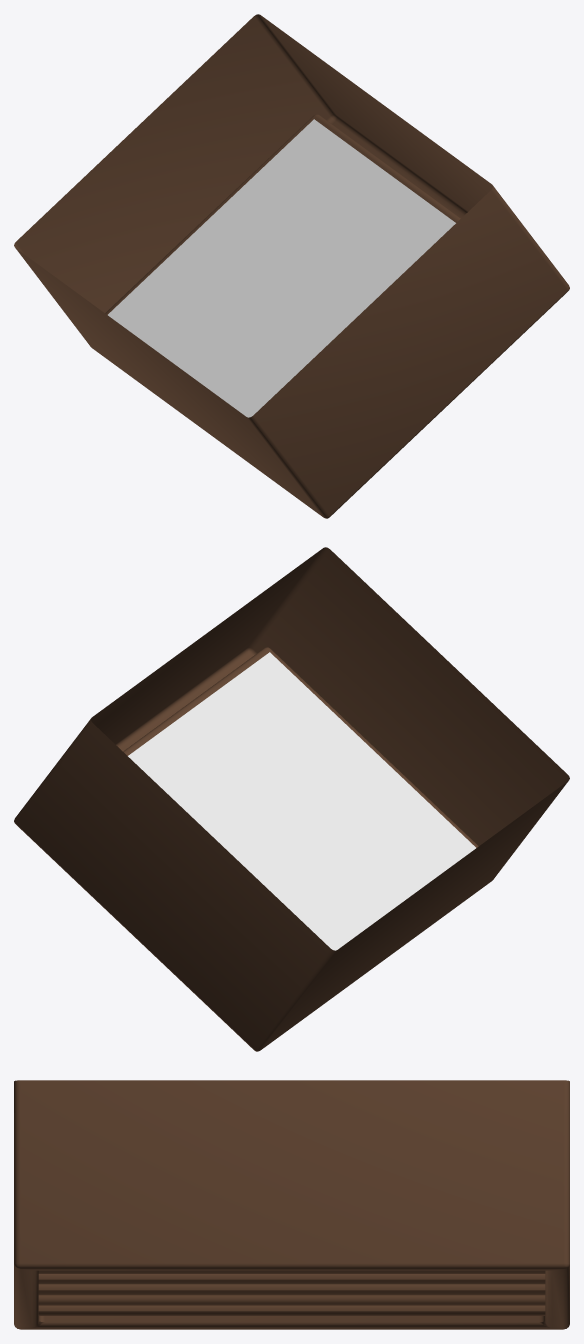
Rendered from SQUARE WINDOWS.fbx.
3 views of the same model, one above another, from view 1: azimuth 30°, elevation 25°; view 2: azimuth 150°, elevation 25°; view 3: azimuth 270°, elevation 25° (orthographic). The views are drawn at different scales.
Visible parts, largest first — view 1: Cube.007; view 2: Cube.007; view 3: Cube.007.
Part boxes in pixels (x1=…): Cube.007: x1=14, y1=14, x2=569, y2=518; Cube.007: x1=14, y1=547, x2=569, y2=1051; Cube.007: x1=14, y1=1080, x2=569, y2=1329.
Bounding box in the file's own units: 41.99 × 36.49 × 53.54.
